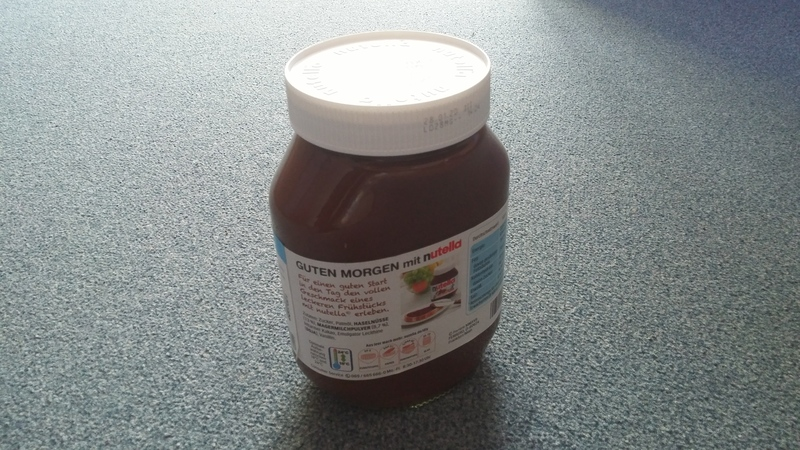nutella: (268, 30, 510, 408)
